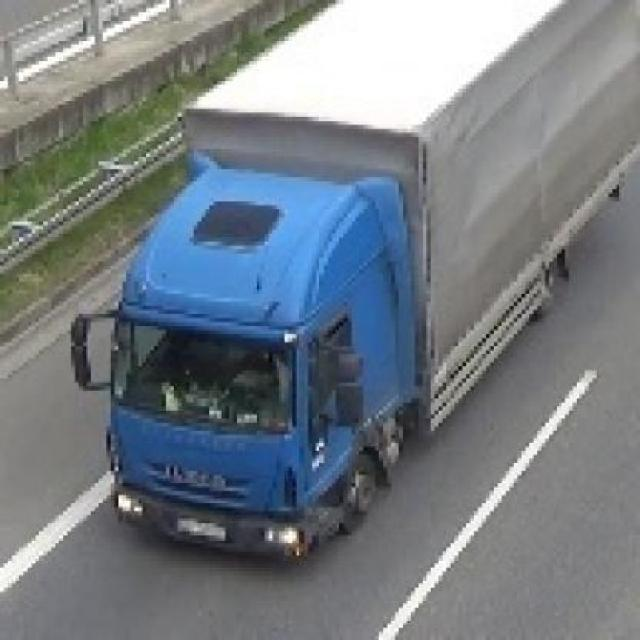truck: (76, 1, 640, 564)
